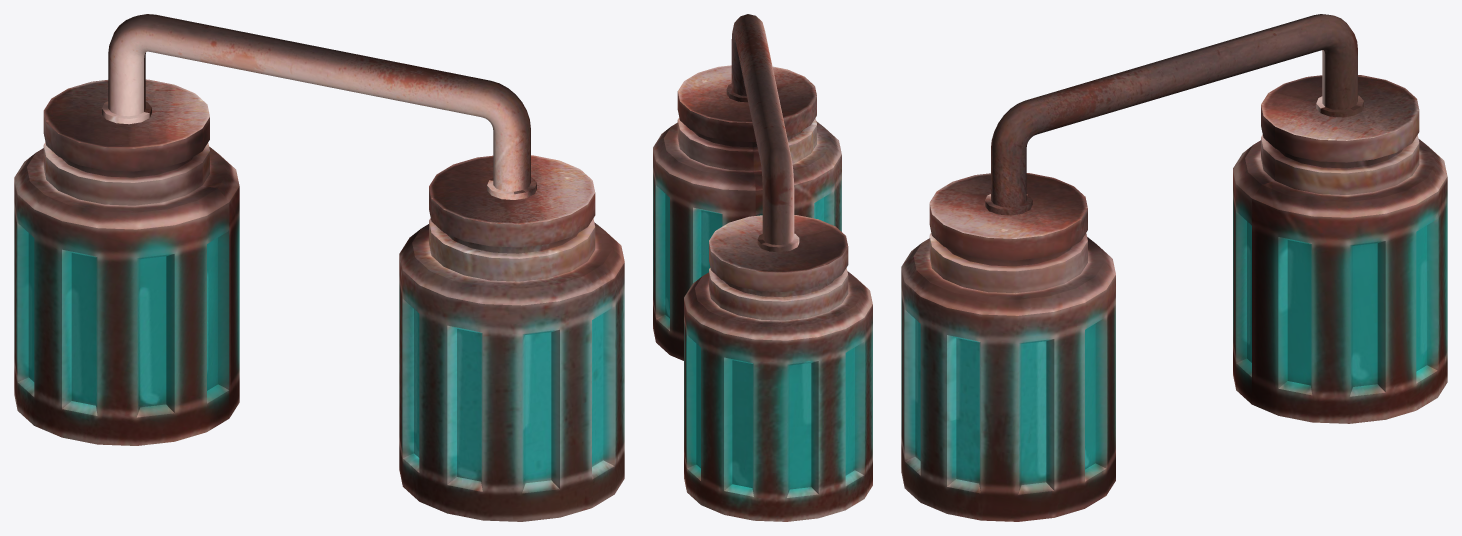
File: animturbines.FBX
3 views of the same model, side by side, from view 1: azimuth 30°, elevation 25°; view 2: azimuth 150°, elevation 25°; view 3: azimuth 270°, elevation 25° (orthographic). The views are drawn at different scales.
Parts seen in each view (by area): view 1: Cylindre; view 2: Cylindre; view 3: Cylindre.
Boxes of the visible parts, left/top/right/bottom form: Cylindre: left=14, top=14, right=624, bottom=521; Cylindre: left=653, top=14, right=872, bottom=521; Cylindre: left=901, top=14, right=1447, bottom=521.
Bounding box in the file's own units: 1197 × 1090 × 1463.
